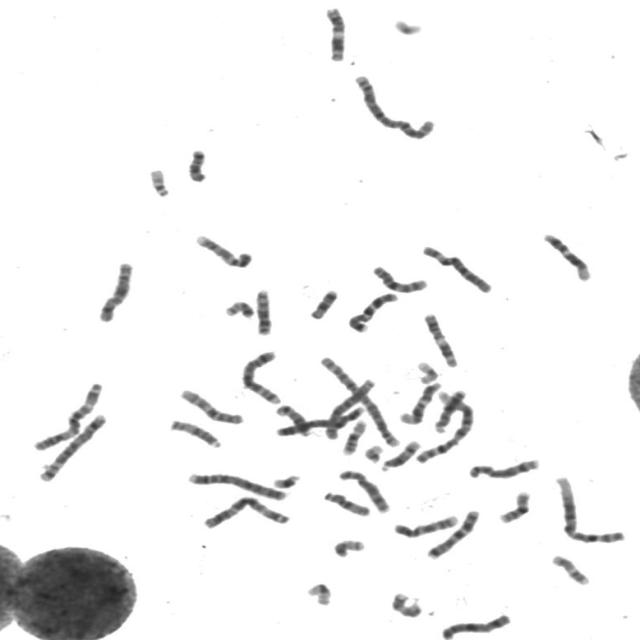A1: (550, 471, 628, 545), (410, 385, 474, 465)
A2: (314, 352, 402, 448), (348, 70, 437, 142)
A3: (27, 377, 106, 452), (198, 492, 292, 530)
B4: (182, 467, 289, 503), (271, 403, 367, 438)
B5: (33, 409, 108, 483), (235, 346, 283, 405)
C10: (174, 384, 247, 426), (367, 261, 431, 294)
C11: (418, 308, 460, 368), (320, 2, 349, 62)
C12: (538, 228, 593, 282), (395, 378, 445, 426)
C6: (418, 240, 494, 294), (319, 374, 379, 441)
C7: (422, 505, 482, 560), (343, 288, 400, 334)
C8: (334, 464, 394, 514), (463, 454, 542, 480)
C9: (190, 230, 254, 269), (388, 510, 461, 539)
D13: (430, 386, 470, 434), (250, 284, 274, 337)
D14: (375, 436, 422, 473), (270, 400, 315, 438)
D15: (164, 415, 224, 449), (318, 486, 372, 518)
E16: (494, 486, 533, 524), (338, 415, 369, 456)
E17: (546, 550, 592, 586), (386, 588, 424, 619)
E18: (304, 284, 340, 320), (182, 144, 210, 183)
F19: (300, 578, 334, 607), (412, 357, 441, 385)
F20: (328, 534, 367, 558), (220, 296, 256, 319)
G21: (268, 469, 302, 490), (394, 20, 423, 37)
G22: (144, 164, 172, 198), (363, 444, 387, 463)
X: (92, 258, 136, 324), (436, 610, 514, 639)
